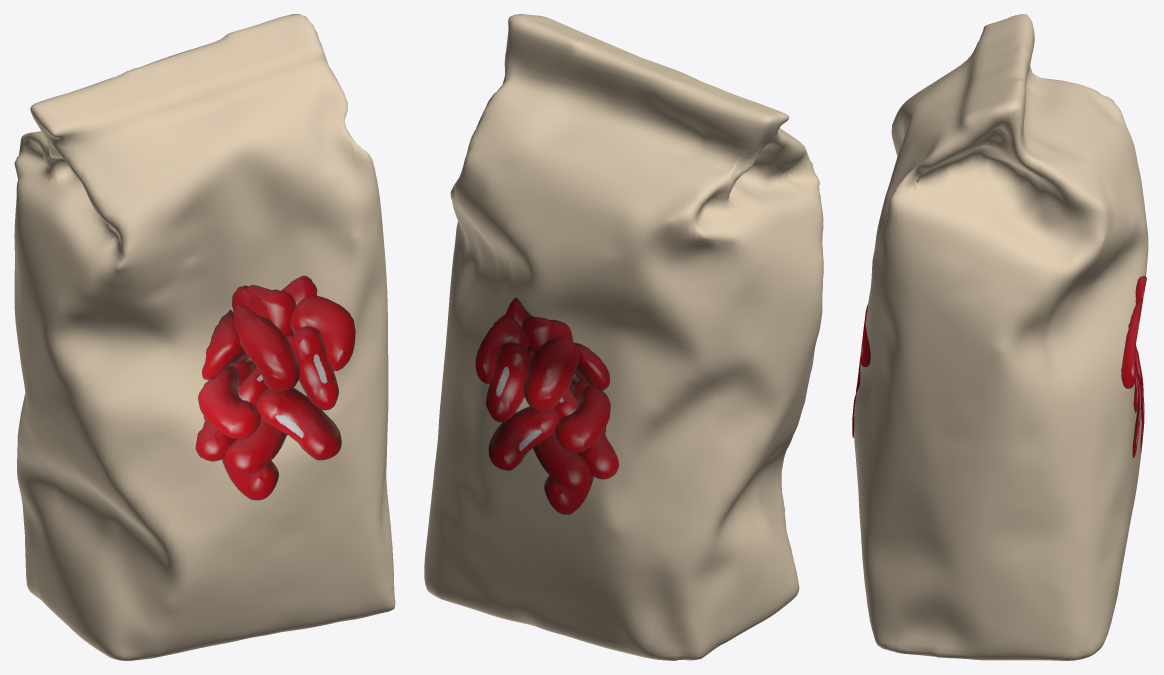
Rendered from BagdedRedBean_Visual.fbx.
The picture shows the model from 3 angles, left to right: view 1: azimuth 30°, elevation 25°; view 2: azimuth 150°, elevation 25°; view 3: azimuth 270°, elevation 25°; orthographic projection. The views are drawn at different scales.
Parts seen in each view (by area): view 1: Bag, RedBeanLogo2; view 2: Bag, RedBeanLogo1; view 3: Bag, RedBeanLogo1, RedBeanLogo2.
Part boxes in pixels (x1,y1,x2,y2): Bag: (14,14,395,660); RedBeanLogo2: (195,275,355,500); Bag: (424,14,823,660); RedBeanLogo1: (475,297,619,514); Bag: (854,14,1148,660); RedBeanLogo1: (1121,276,1146,458); RedBeanLogo2: (852,304,870,437).
Size of the model in its own units: 12.88 by 20 by 10.1.
